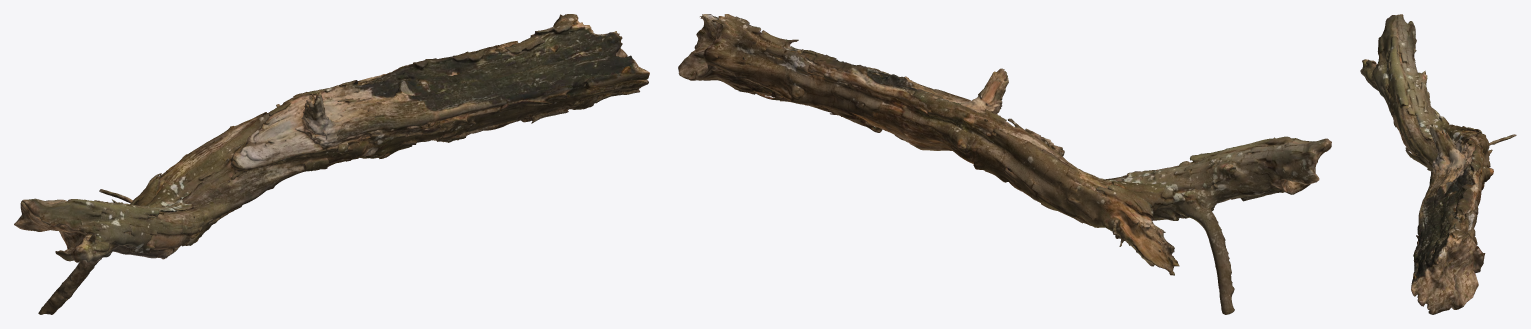
The model's file is Log_b.glb.
3 renders of one model, left to right at view 1: azimuth 30°, elevation 25°; view 2: azimuth 150°, elevation 25°; view 3: azimuth 270°, elevation 25°, orthographic. The views are drawn at different scales.
Parts seen in each view (by area): view 1: dead_tree_trunk_02; view 2: dead_tree_trunk_02; view 3: dead_tree_trunk_02.
Part boxes in pixels (bbox=[...]): dead_tree_trunk_02: bbox=[14, 14, 649, 314]; dead_tree_trunk_02: bbox=[678, 14, 1331, 314]; dead_tree_trunk_02: bbox=[1360, 14, 1516, 314].
Size of the model in its own units: 4.05 by 1.06 by 1.06.
Materials: 1 (1 with a texture image).
